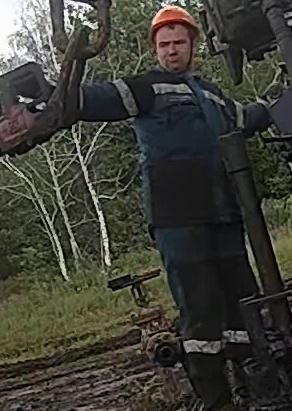helmet: (148, 4, 199, 44)
vest: (123, 69, 243, 229)
